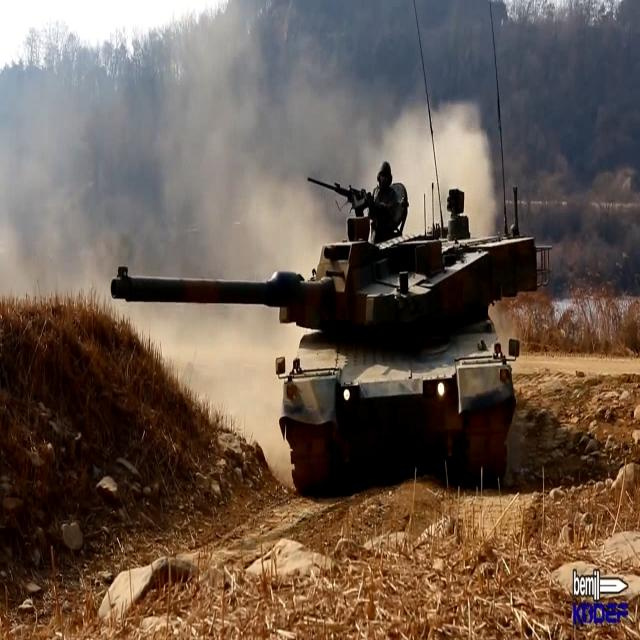korea tank: (110, 159, 554, 498)
